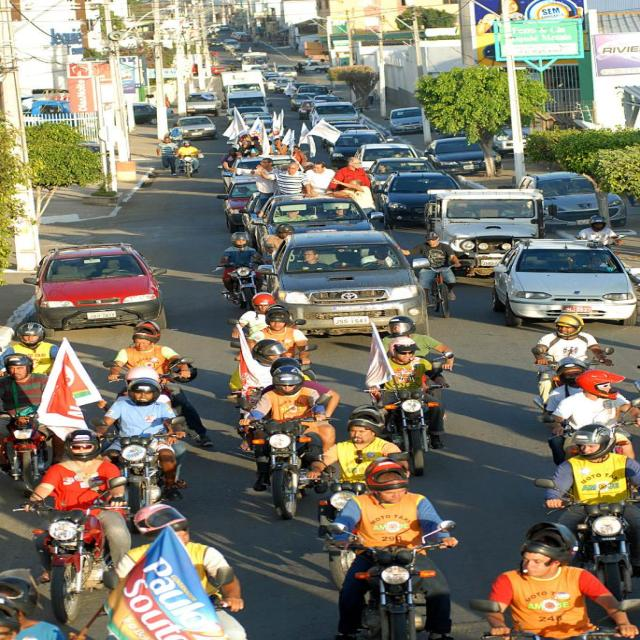car: (24, 245, 165, 328)
